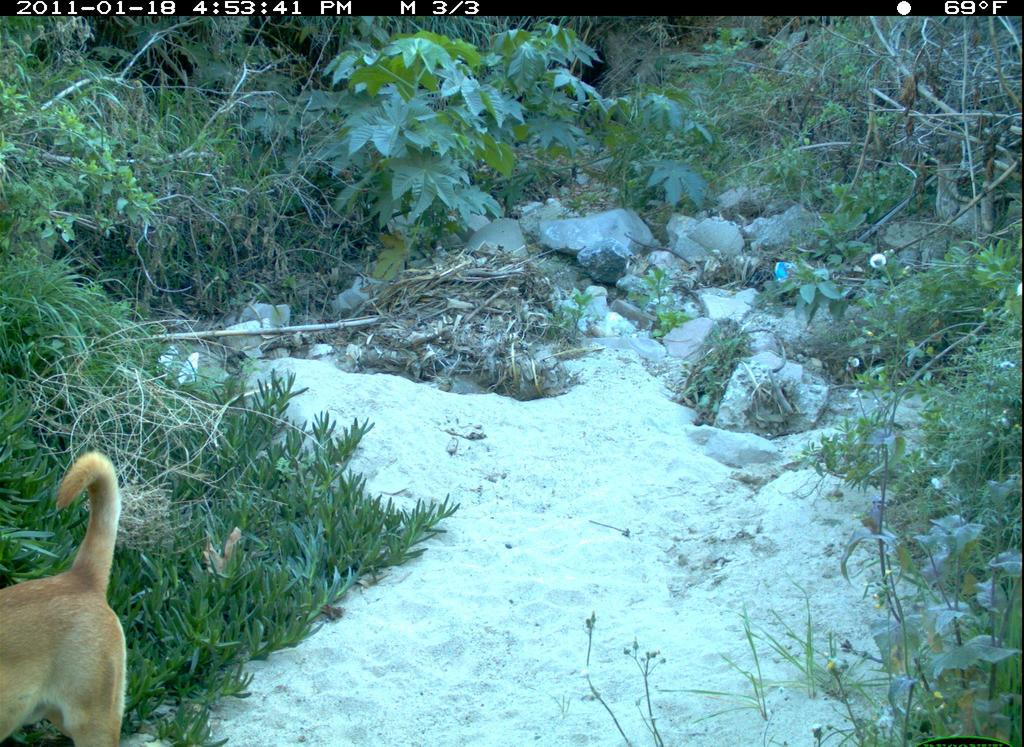dog: (1, 456, 199, 747)
